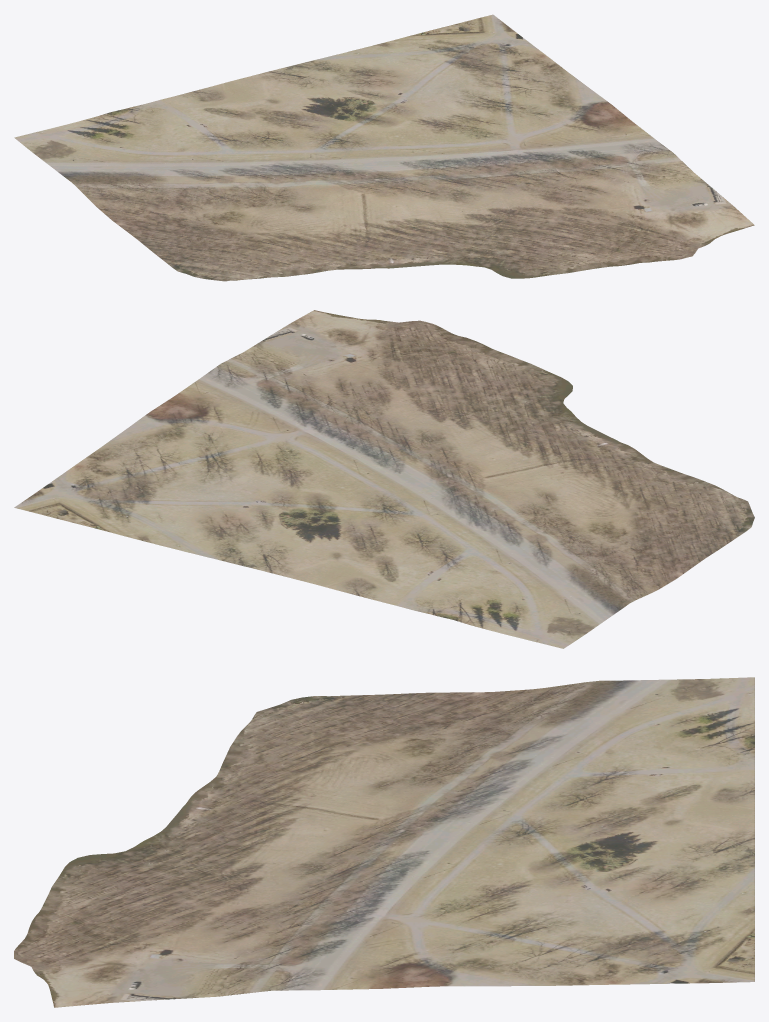
File: CM_Terrain_24489434_6819794.fbx
3 views of the same model, one above another, from view 1: azimuth 30°, elevation 25°; view 2: azimuth 150°, elevation 25°; view 3: azimuth 270°, elevation 25° (orthographic). The views are drawn at different scales.
Parts seen in each view (by area): view 1: CM_Terrain_24489434_6819794_LOD0; view 2: CM_Terrain_24489434_6819794_LOD0; view 3: CM_Terrain_24489434_6819794_LOD0.
Part boxes in pixels (box(x1,y1,x2,y2)): CM_Terrain_24489434_6819794_LOD0: box(14, 14, 754, 281); CM_Terrain_24489434_6819794_LOD0: box(14, 310, 754, 648); CM_Terrain_24489434_6819794_LOD0: box(14, 677, 754, 1007).
Size of what is drawn, in the model's own units: 205 by 8.88 by 205.
